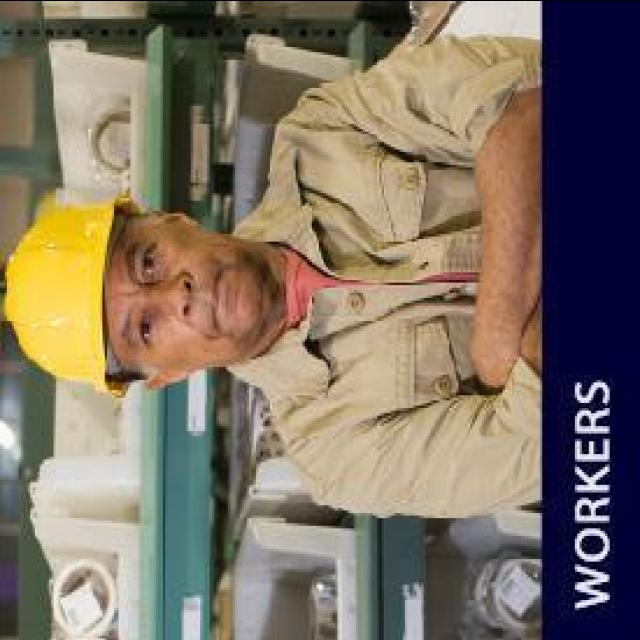helmet: (0, 186, 136, 414)
